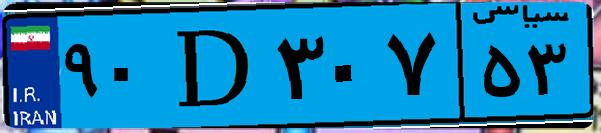0: (330, 28, 385, 110), (110, 28, 158, 98)
3: (270, 28, 330, 110), (525, 38, 570, 115)
5: (475, 38, 525, 113)
7: (385, 28, 445, 110)
9: (57, 26, 110, 100)
D: (158, 12, 270, 120)
